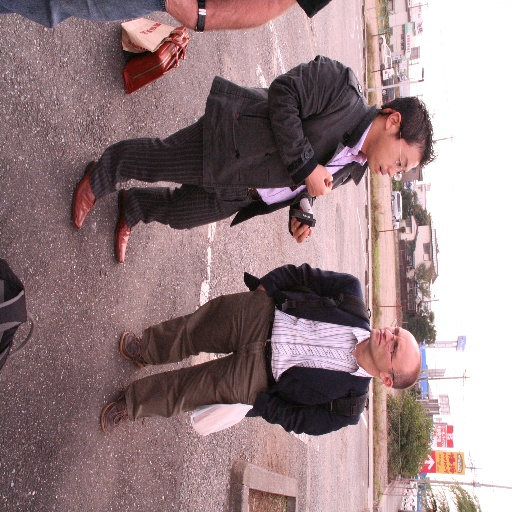hand: (291, 185, 322, 239), (305, 164, 334, 199), (166, 0, 198, 24)
